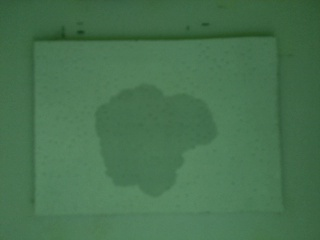Water_detected: (108, 106, 204, 187)
